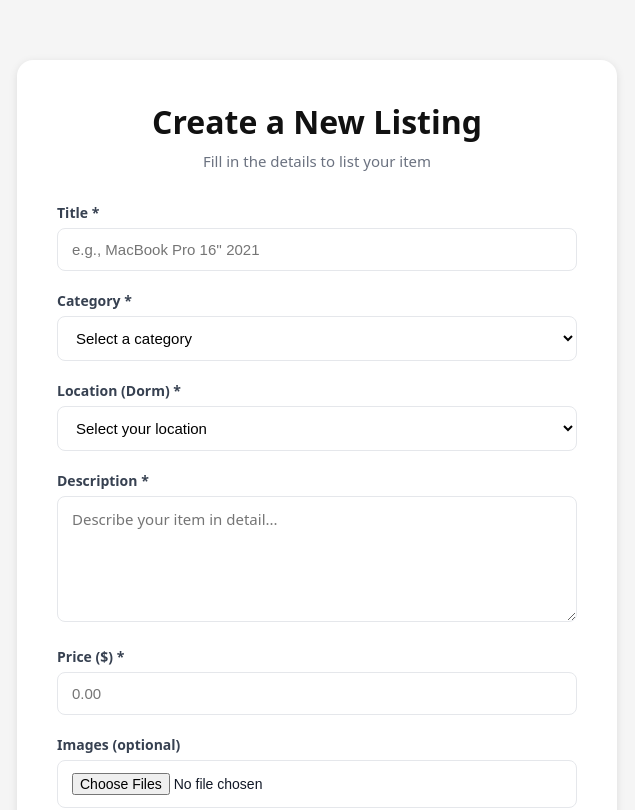
Test: CreateListing › Form Submission › shows loading state during submission
The image size is (635, 810).
Type "Test Title" into the field labelled "Title *" at (317, 250), box [57,228,577,271]
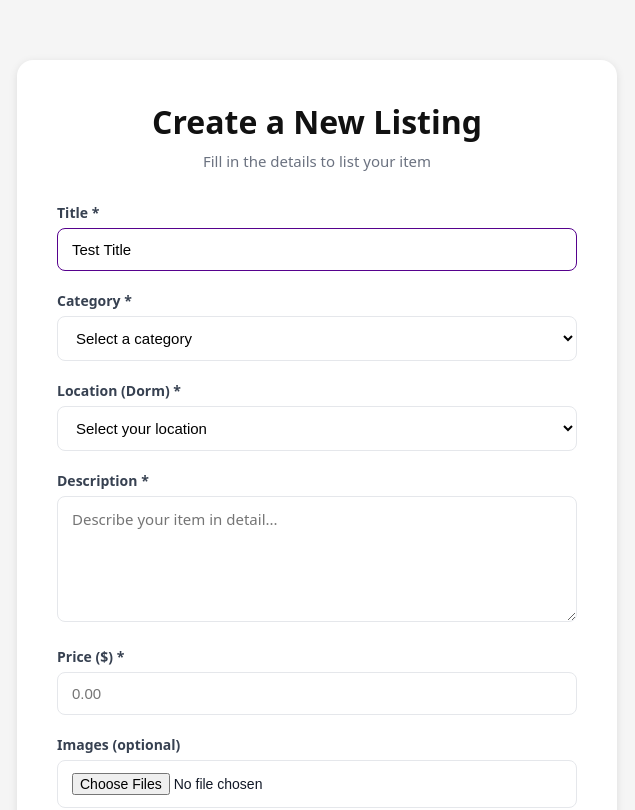
Type "Test Description" into the text box labelled "Description *" at (317, 559), box [57,496,577,622]
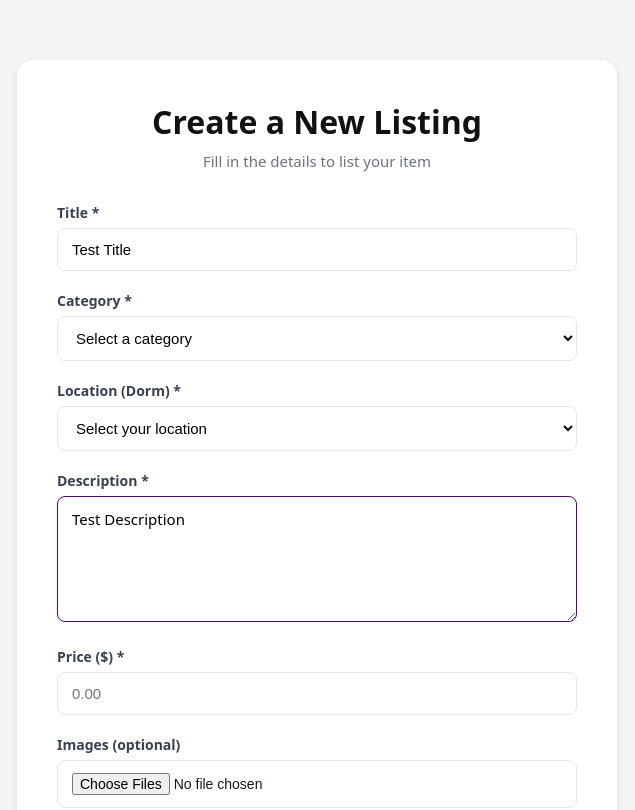
Type "99.99" into the number field labelled "Price ($) *" at (317, 694), box [57,672,577,715]
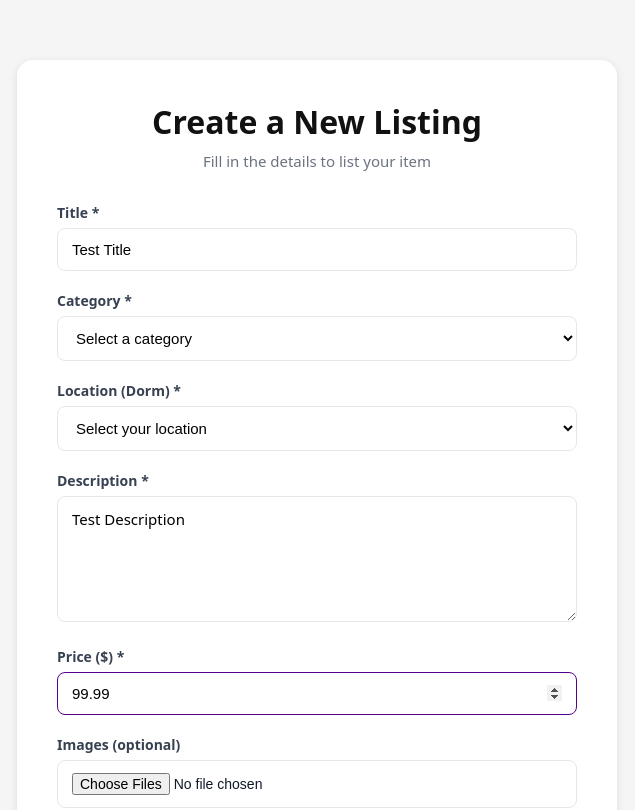
Select "Electronics" in the dropdown labelled "Category *" at (317, 338), box [57,316,577,361]
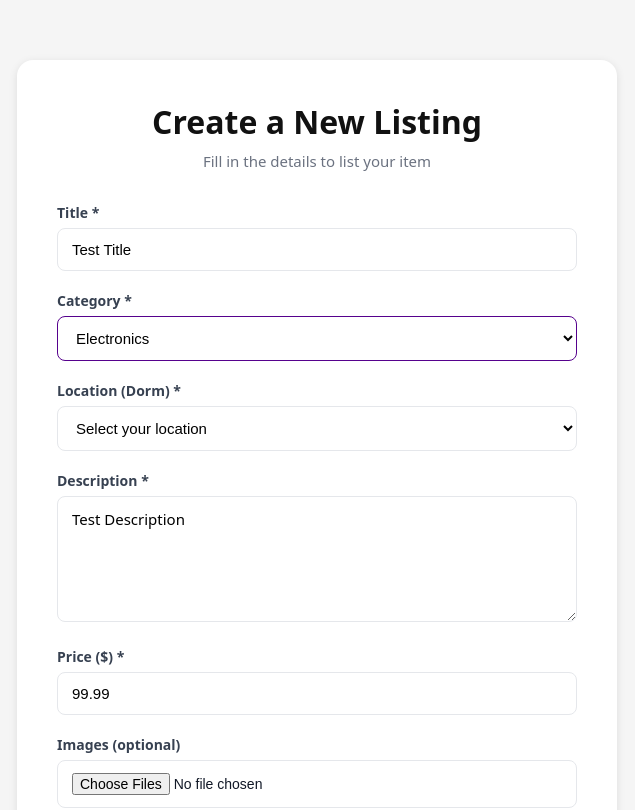
Select "Othmer Hall" in the dropdown labelled "Location (Dorm) *" at (317, 428), box [57,406,577,451]
(page scrolled)
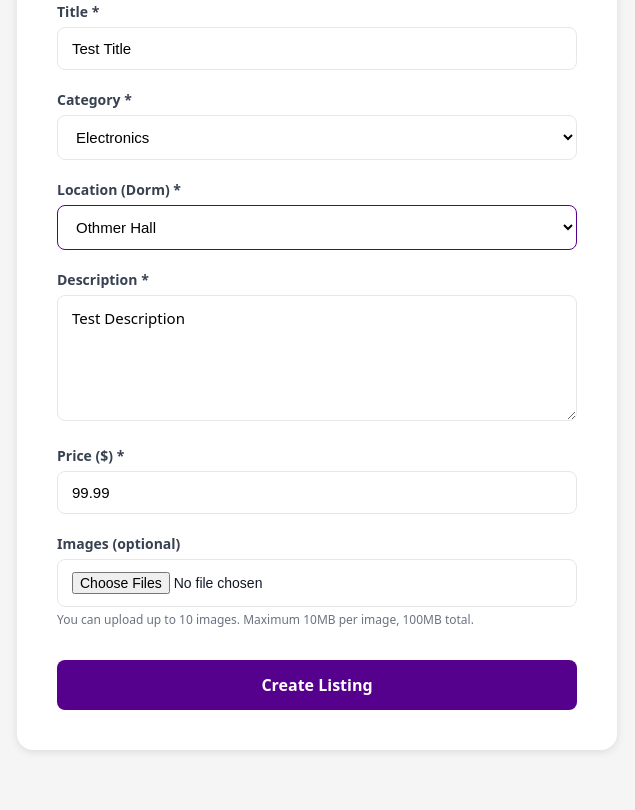
Click the button "Create Listing" at (317, 685), box [57,660,577,710]
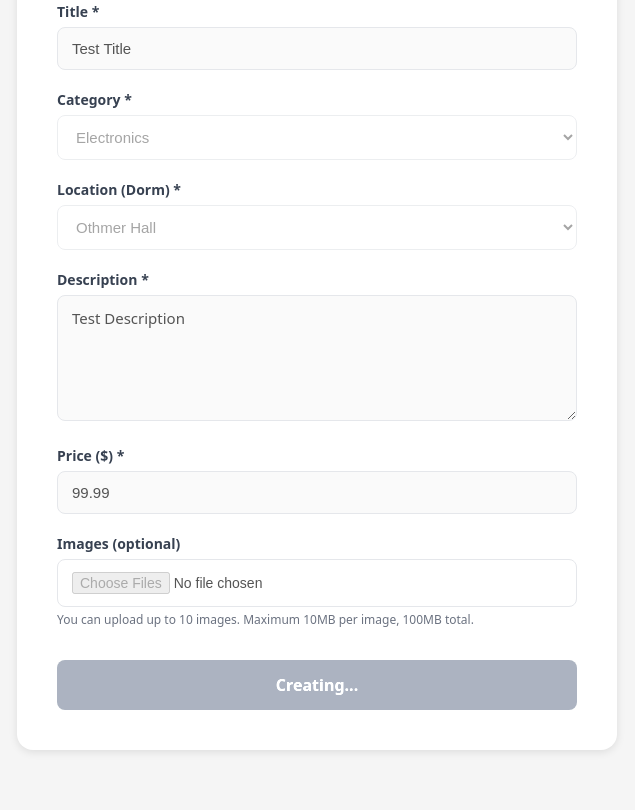
Now the button "Creating..." is disabled, box [57,660,577,710]
